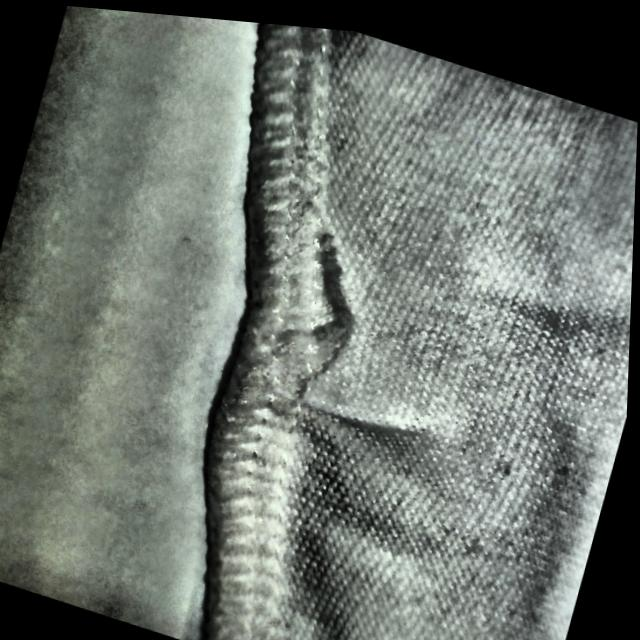seam: (213, 207, 458, 473)
